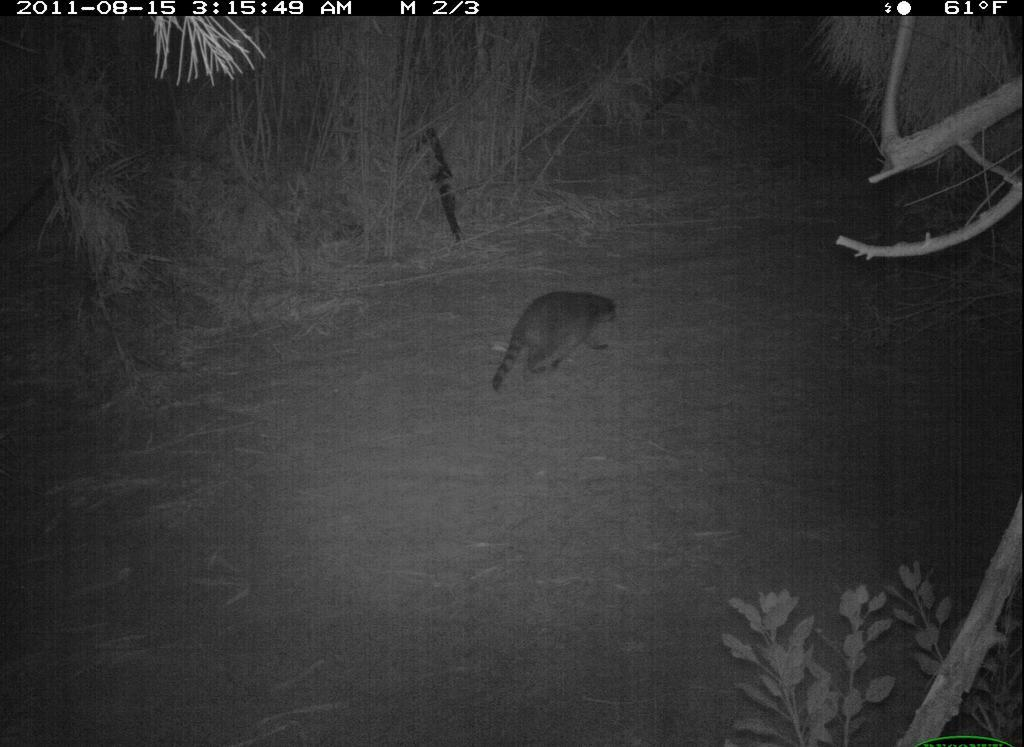raccoon: (478, 282, 637, 405)
